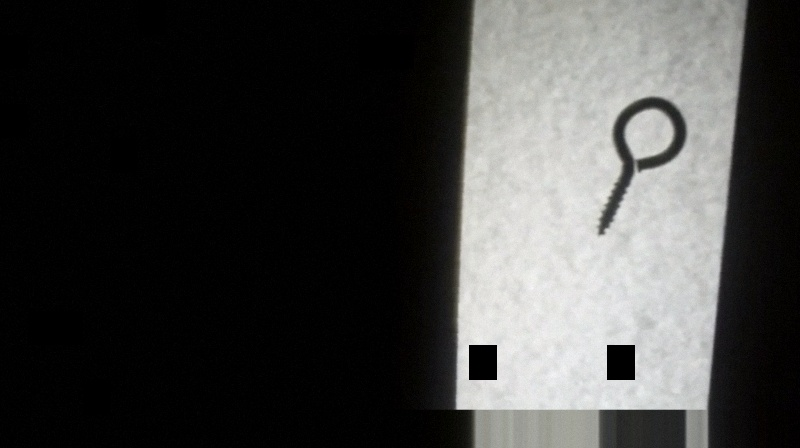O001: (594, 93, 691, 238)
